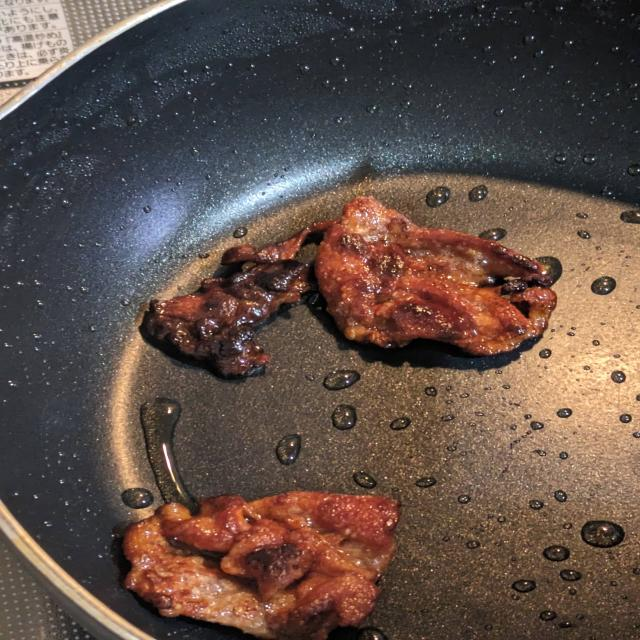overcooked pork: (124, 192, 567, 387), (114, 486, 404, 640)
